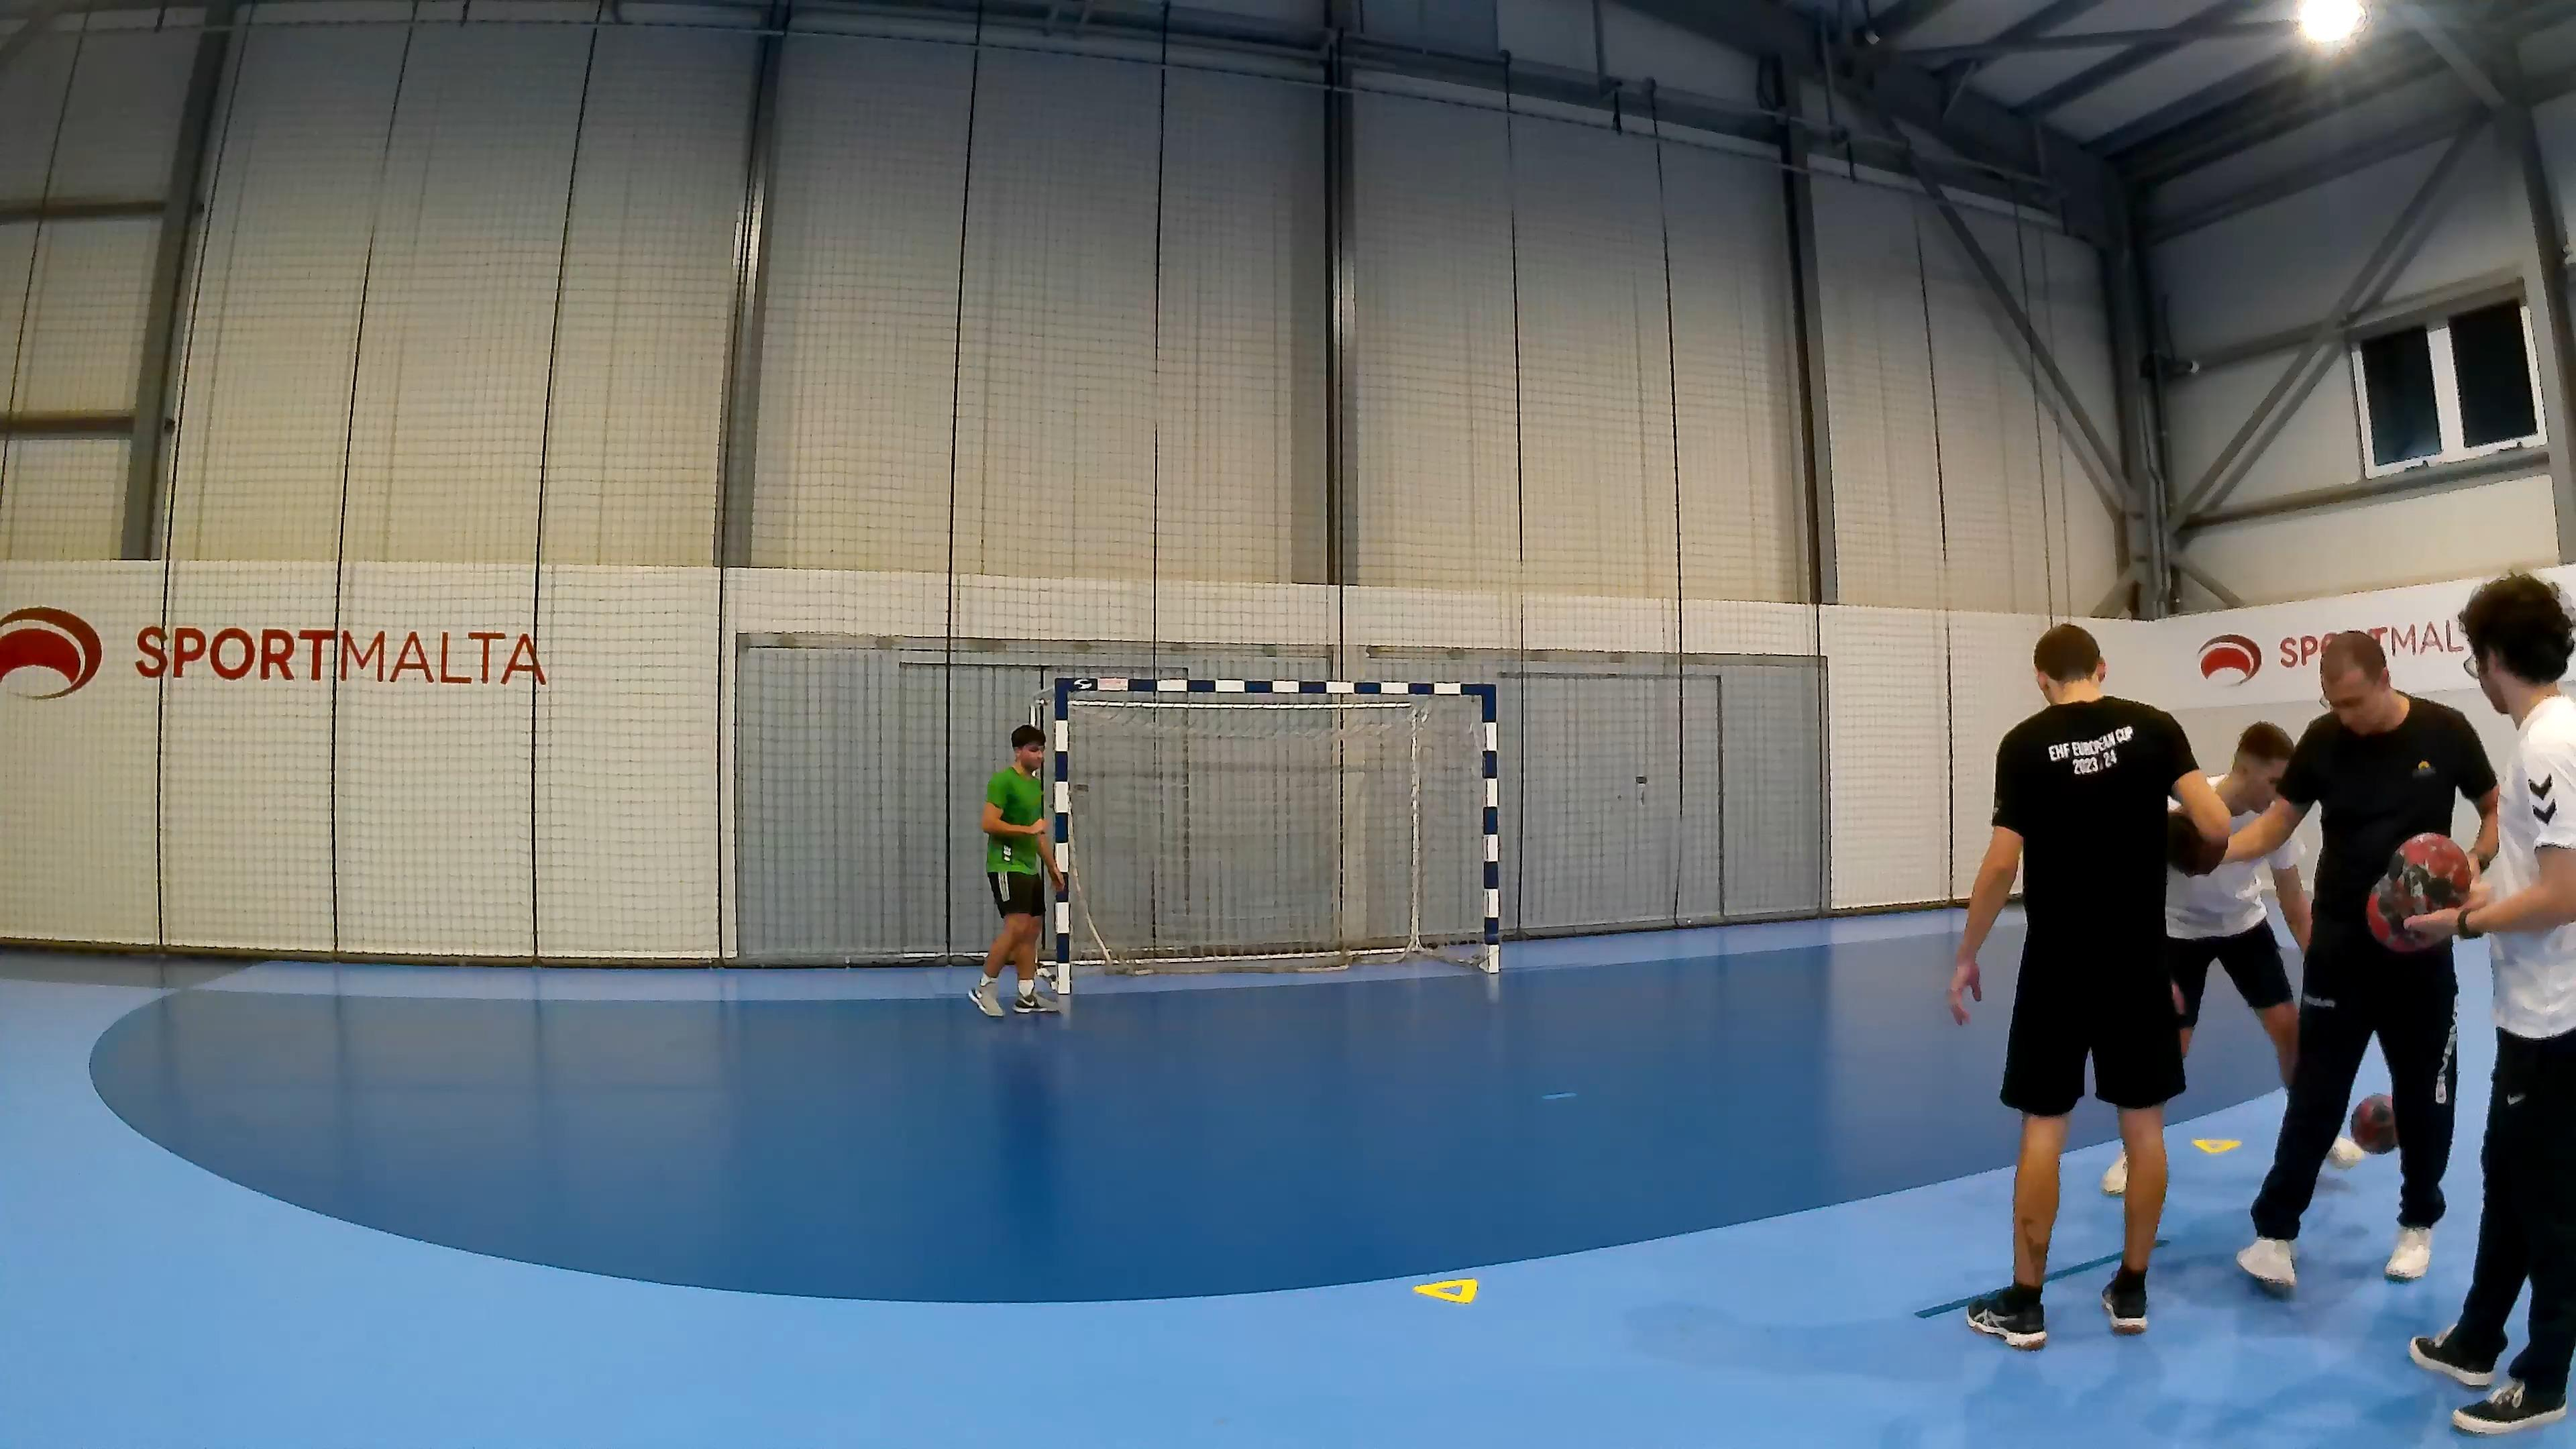handball: (2365, 832, 2475, 952), (2350, 1093, 2397, 1155)
